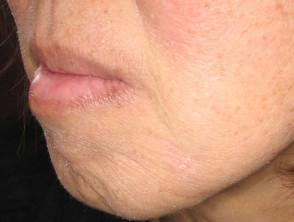Eczema: (162, 31, 194, 57), (169, 147, 198, 172), (178, 0, 207, 24), (213, 50, 230, 74), (198, 96, 222, 111), (275, 2, 293, 21), (239, 27, 260, 41), (66, 9, 86, 23), (277, 117, 294, 133), (146, 124, 163, 140), (145, 10, 162, 25), (104, 6, 131, 14), (231, 127, 244, 137), (235, 106, 246, 117)
